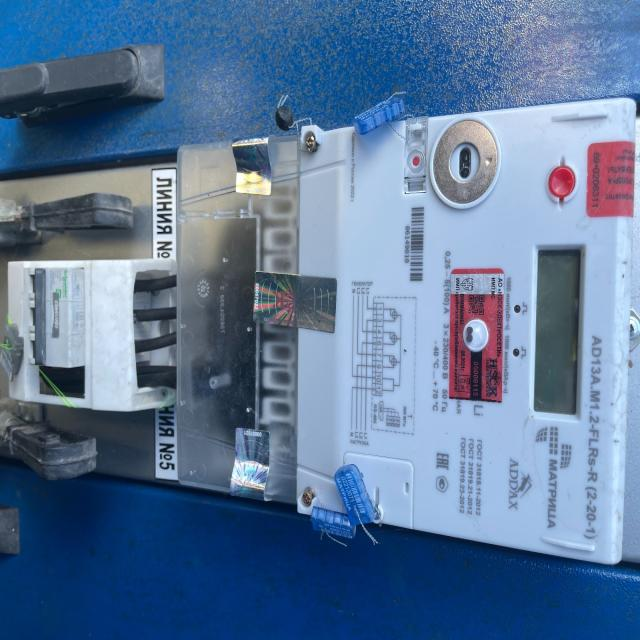Display: (531, 249, 584, 414)
meter_matrica: (224, 100, 636, 572)
meter_number: (402, 201, 427, 288)
